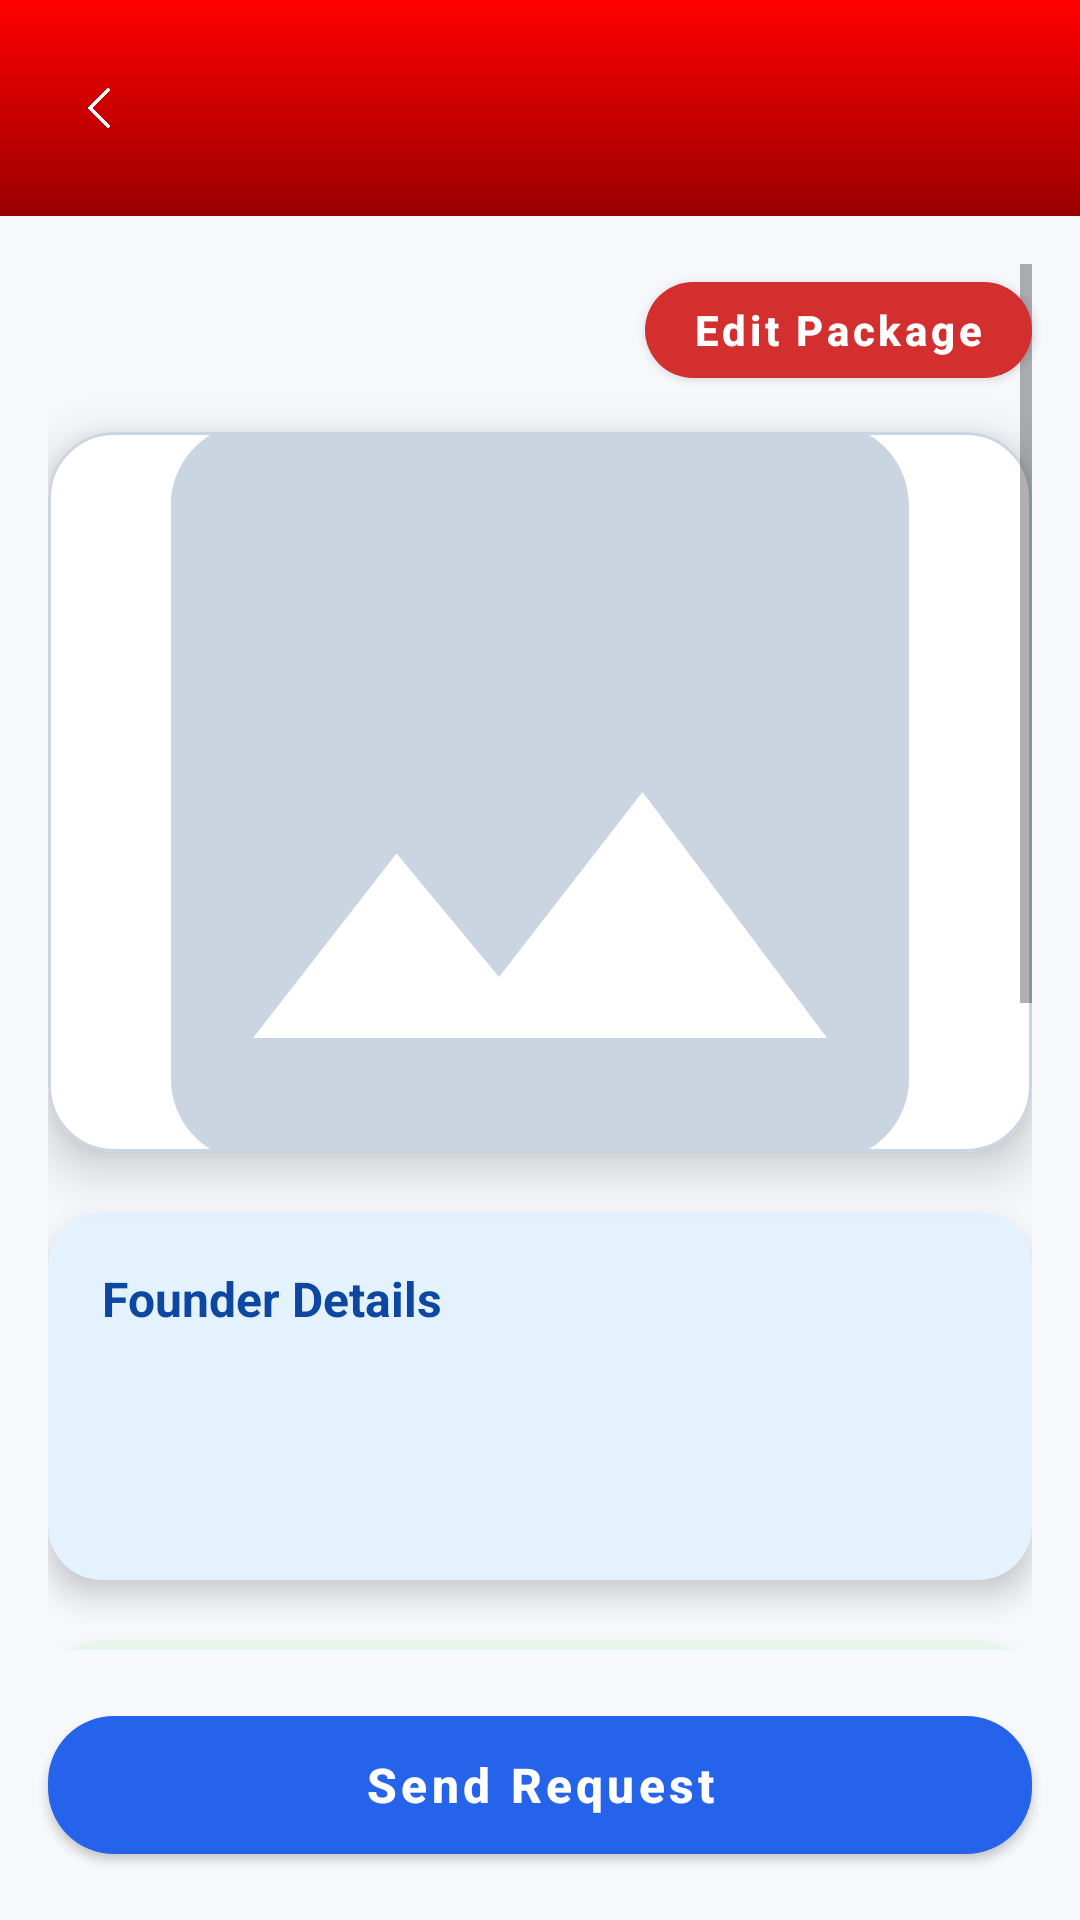

Where to tap for icons on this 1080×1920 app screen, as (x,y):
back: (99,108)
